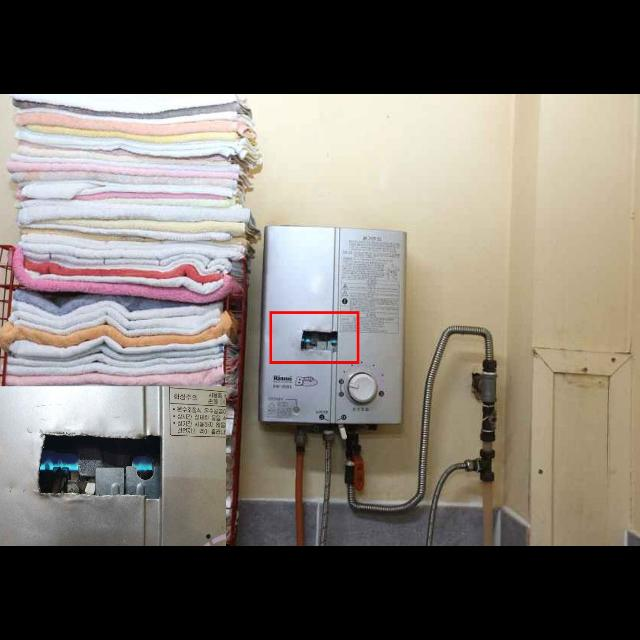Boiler: (250, 202, 410, 456)
